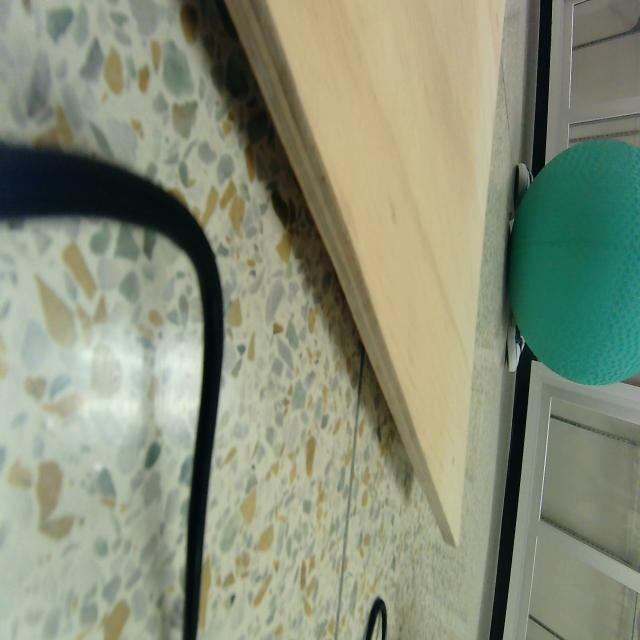algae: (504, 132, 640, 388)
